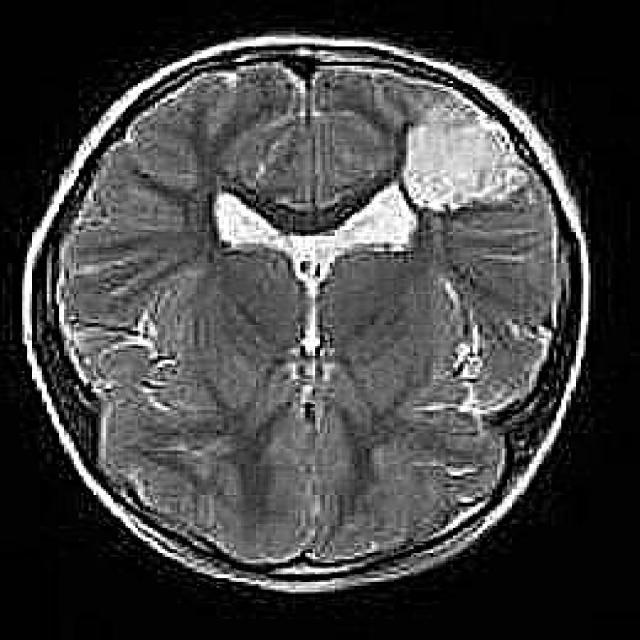Tumor-Cell: (404, 105, 530, 208)
